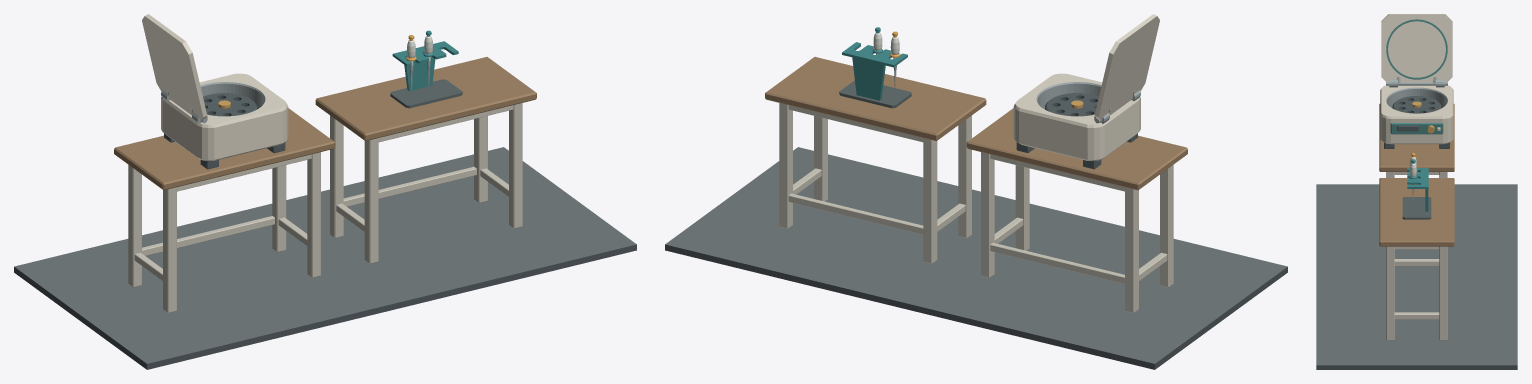
3 views of the same model, side by side, from view 1: azimuth 30°, elevation 25°; view 2: azimuth 150°, elevation 25°; view 3: azimuth 270°, elevation 25° (orthographic). The views are drawn at different scales.
Parts seen in each view (by area): view 1: SCENE_ONLY__LaboratoryPreparationFloor, righttable__Complete work surface, centrifuge__Housing_ThickBlindChamber, lefttable__Complete work surface, centrifuge__Lid_FixedOpenCover, righttable__Worktable leg, lefttable__Worktable leg, righttable__Worktable leg.002, lefttable__Worktable leg.002, lefttable__Worktable leg.001, righttable__Worktable leg.001, pipettes__Rack_WideChamferedBase (+9 smaller); view 2: SCENE_ONLY__LaboratoryPreparationFloor, righttable__Complete work surface, centrifuge__Housing_ThickBlindChamber, lefttable__Complete work surface, centrifuge__Lid_FixedOpenCover, righttable__Worktable leg.001, lefttable__Worktable leg.001, righttable__Worktable leg.003, lefttable__Worktable leg.003, lefttable__Worktable leg, righttable__Worktable leg, righttable__Rear lower brace (+9 smaller); view 3: SCENE_ONLY__LaboratoryPreparationFloor, centrifuge__Lid_FixedOpenCover, righttable__Complete work surface, centrifuge__Housing_ThickBlindChamber, lefttable__Complete work surface, righttable__Worktable leg.002, righttable__Worktable leg.003, centrifuge__Rotor_EightBlindWells, pipettes__Rack_WideChamferedBase, centrifuge__Control_FrontPanel, centrifuge__Lid_InsetSealRing, pipettes__Rack_ThreeFrontOpenForks (+3 smaller).
Boxes of the visible parts, x1,y1,x2,y2 form: SCENE_ONLY__LaboratoryPreparationFloor: (14, 147, 636, 369); righttable__Complete work surface: (315, 57, 536, 140); centrifuge__Housing_ThickBlindChamber: (161, 73, 288, 160); lefttable__Complete work surface: (114, 108, 335, 190); centrifuge__Lid_FixedOpenCover: (142, 14, 207, 121); righttable__Worktable leg: (364, 138, 378, 263); lefttable__Worktable leg: (163, 187, 176, 312); righttable__Worktable leg.002: (509, 103, 522, 228); lefttable__Worktable leg.002: (307, 152, 320, 277); lefttable__Worktable leg.001: (128, 165, 141, 287); righttable__Worktable leg.001: (330, 115, 343, 238); pipettes__Rack_WideChamferedBase: (390, 79, 462, 108); SCENE_ONLY__LaboratoryPreparationFloor: (665, 147, 1287, 369); righttable__Complete work surface: (765, 57, 986, 140); centrifuge__Housing_ThickBlindChamber: (1013, 73, 1140, 160); lefttable__Complete work surface: (966, 108, 1187, 190); centrifuge__Lid_FixedOpenCover: (1094, 14, 1159, 121); righttable__Worktable leg.001: (923, 138, 937, 263); lefttable__Worktable leg.001: (1125, 187, 1138, 312); righttable__Worktable leg.003: (779, 103, 792, 228); lefttable__Worktable leg.003: (981, 152, 994, 277); lefttable__Worktable leg: (1160, 165, 1173, 287); righttable__Worktable leg: (958, 115, 971, 238); righttable__Rear lower brace: (788, 193, 923, 234); SCENE_ONLY__LaboratoryPreparationFloor: (1316, 184, 1517, 369); centrifuge__Lid_FixedOpenCover: (1381, 14, 1452, 82); righttable__Complete work surface: (1379, 178, 1454, 246); centrifuge__Housing_ThickBlindChamber: (1380, 85, 1453, 144); lefttable__Complete work surface: (1379, 104, 1454, 171); righttable__Worktable leg.002: (1386, 246, 1394, 340); righttable__Worktable leg.003: (1439, 246, 1447, 340); centrifuge__Rotor_EightBlindWells: (1392, 96, 1441, 113); pipettes__Rack_WideChamferedBase: (1402, 197, 1431, 219); centrifuge__Control_FrontPanel: (1390, 123, 1443, 134); centrifuge__Lid_InsetSealRing: (1386, 19, 1447, 79); pipettes__Rack_ThreeFrontOpenForks: (1407, 168, 1428, 188).
Size of the model in its own units: 3.4 by 1.81 by 1.6.
